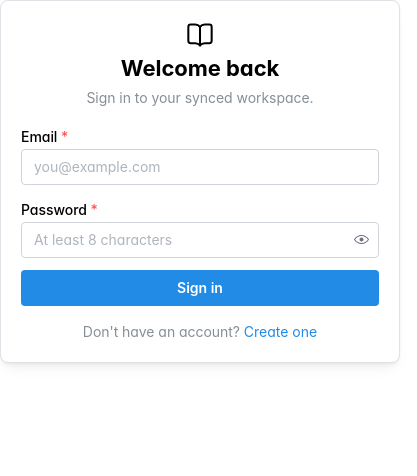
Login form › toggles between sign-in and sign-up
This screenshot has width=417, height=476.
Click the button "Create one" at (280, 332), box top-left (244, 322), bottom-right (317, 342)
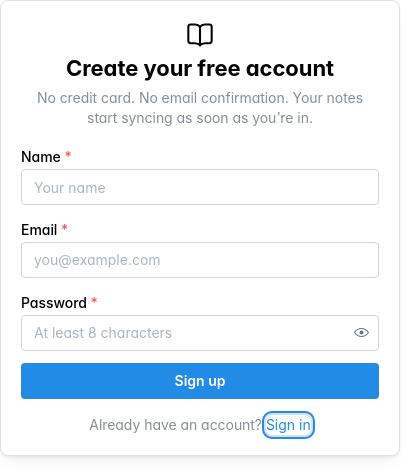
Expected: the heading "Create your free account" is shown, top-left (66, 53), bottom-right (334, 84)
